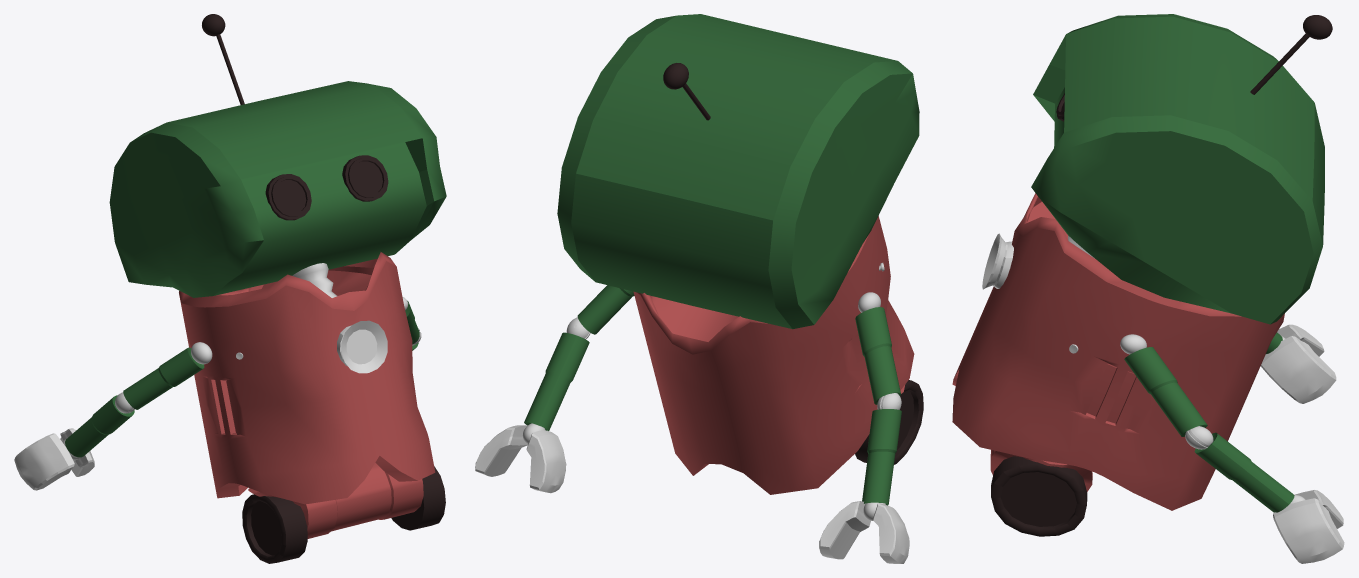
Rendered from S-4M MainMenu.fbx.
3 views of the same model, side by side, from view 1: azimuth 30°, elevation 25°; view 2: azimuth 150°, elevation 25°; view 3: azimuth 270°, elevation 25° (orthographic). The views are drawn at different scales.
Parts seen in each view (by area): view 1: polySurface2, Chest, Hips2, Wheels_2, RightHand_5, Scanner, RightArm9, RightArm8, Eyes1, Eyes, Wheels_1, Torso5; view 2: polySurface2, Chest, RightArm5, RightArm8, RightArm9, RightHand_3, RightHand_6, Wheels_2, RightHand_4, RightHand_5, RightArm4, AntinaBall; view 3: polySurface2, Chest, Wheels_1, RightHand_4, RightHand_6, RightArm4, RightArm5, Scanner, Hips2, AntinaBall, RightHand_5, RightHand_3 (+1 smaller).
Boxes of the visible parts, x1,y1,x2,y2 form: polySurface2: [109, 81, 446, 297]; Chest: [179, 252, 435, 504]; Hips2: [248, 463, 423, 538]; Wheels_2: [242, 494, 307, 563]; RightHand_5: [14, 433, 74, 490]; Scanner: [337, 320, 387, 373]; RightArm9: [123, 347, 204, 409]; RightArm8: [65, 395, 134, 457]; Eyes1: [265, 174, 311, 220]; Eyes: [342, 155, 388, 201]; Wheels_1: [391, 466, 445, 530]; Torso5: [292, 263, 337, 297]; polySurface2: [557, 14, 919, 329]; Chest: [633, 216, 914, 494]; RightArm5: [524, 332, 589, 430]; RightArm8: [862, 409, 901, 505]; RightArm9: [855, 307, 900, 404]; RightHand_3: [526, 430, 566, 493]; RightHand_6: [819, 501, 870, 559]; Wheels_2: [855, 380, 923, 464]; RightHand_4: [475, 425, 527, 476]; RightHand_5: [873, 503, 909, 563]; RightArm4: [577, 285, 634, 334]; AntinaBall: [663, 63, 688, 89]; polySurface2: [1031, 14, 1324, 324]; Chest: [952, 193, 1284, 510]; Wheels_1: [991, 456, 1087, 536]; RightHand_4: [1273, 498, 1344, 563]; RightHand_6: [1261, 336, 1336, 403]; RightArm4: [1124, 347, 1207, 436]; RightArm5: [1194, 432, 1294, 512]; Scanner: [982, 233, 1013, 289]; Hips2: [990, 450, 1092, 491]; AntinaBall: [1303, 15, 1332, 39]; RightHand_5: [1277, 324, 1324, 356]; RightHand_3: [1295, 490, 1343, 528].
Bounding box in the file's own units: 70.89 × 78.88 × 58.75.
